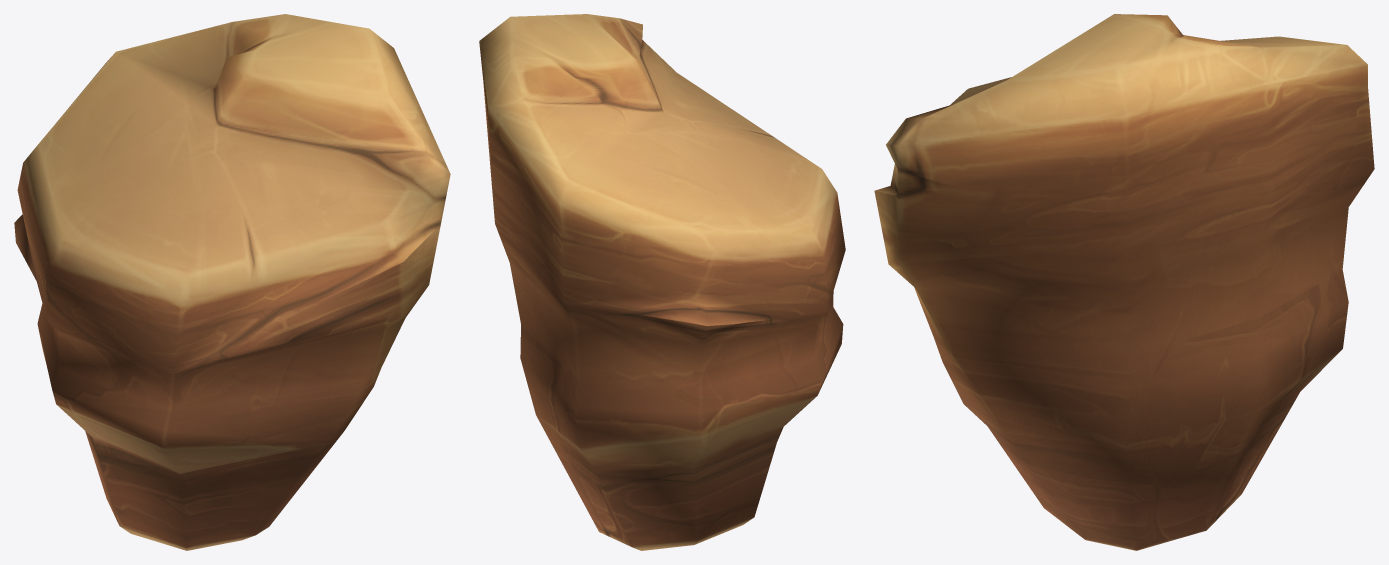
File: DE_Rock_07.fbx
3 views of the same model, side by side, from view 1: azimuth 30°, elevation 25°; view 2: azimuth 150°, elevation 25°; view 3: azimuth 270°, elevation 25° (orthographic). The views are drawn at different scales.
Parts seen in each view (by area): view 1: DE_Rock_07; view 2: DE_Rock_07; view 3: DE_Rock_07.
Part boxes in pixels (x1,y1,x2,y2): DE_Rock_07: (14, 14, 450, 550); DE_Rock_07: (479, 14, 845, 550); DE_Rock_07: (874, 14, 1374, 550).
Size of the model in its own units: 6.28 by 8.09 by 6.69.
